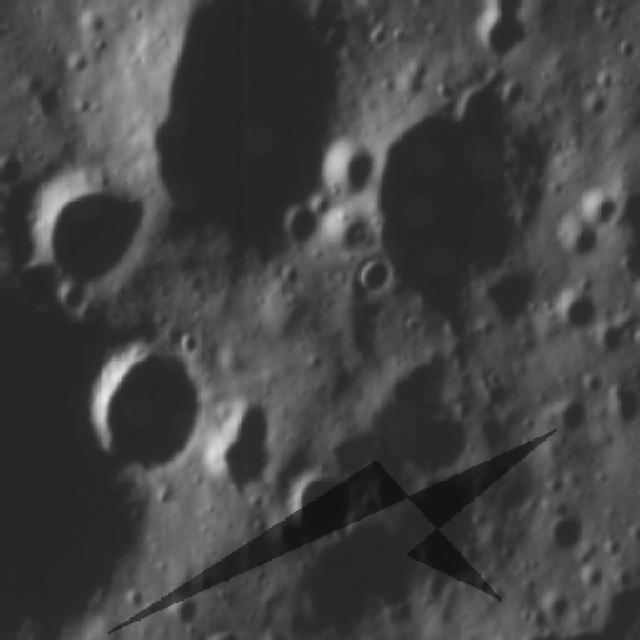crater: (14, 186, 148, 292), (86, 350, 206, 464), (285, 468, 357, 549), (209, 404, 276, 487), (314, 138, 374, 190), (554, 285, 600, 327), (283, 206, 320, 245), (360, 253, 388, 304), (552, 515, 582, 556)
